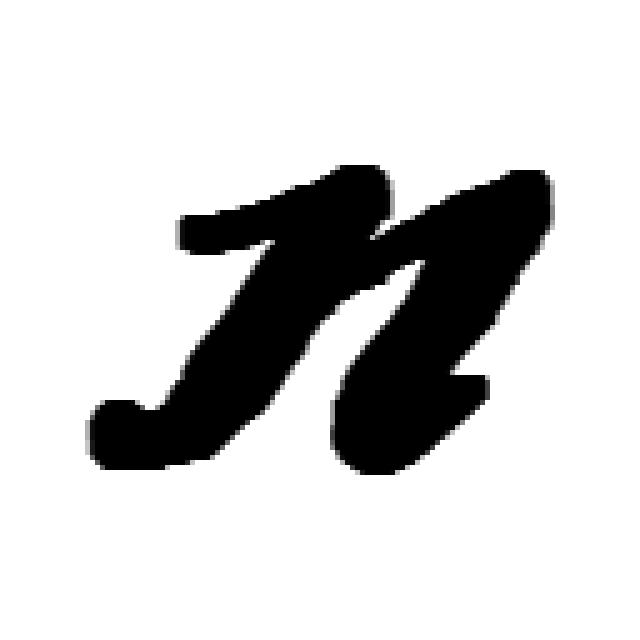N: (128, 159, 552, 485)
